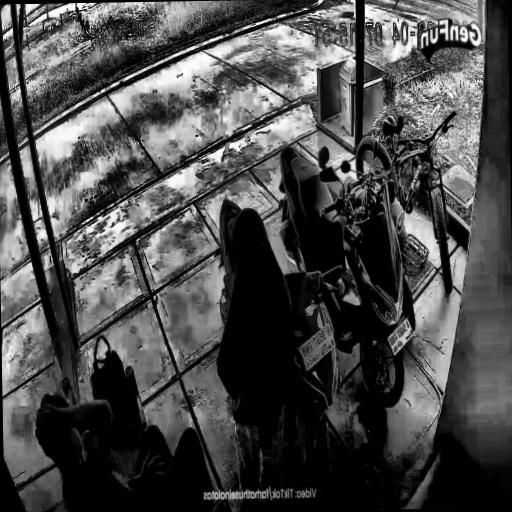aman: (35, 0, 356, 488), (0, 154, 57, 494), (365, 0, 469, 66)
